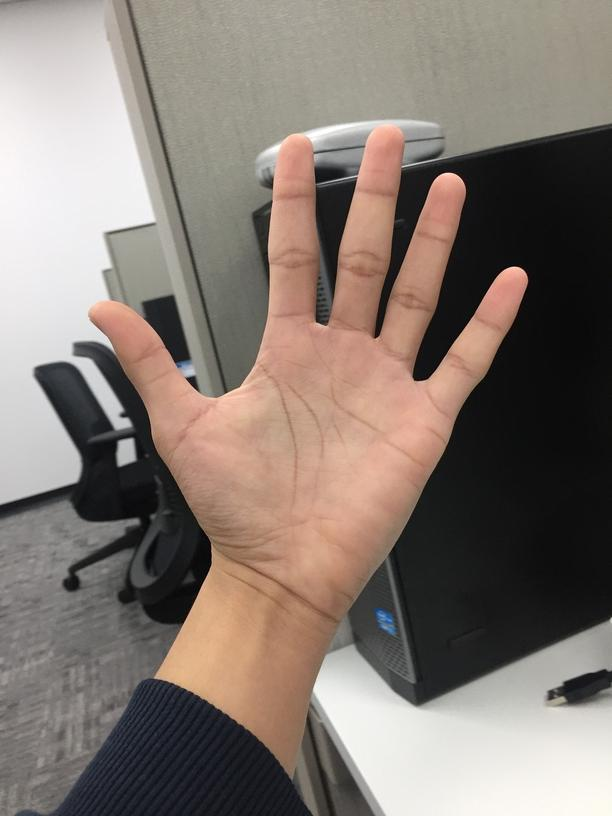hand: (89, 122, 533, 600)
